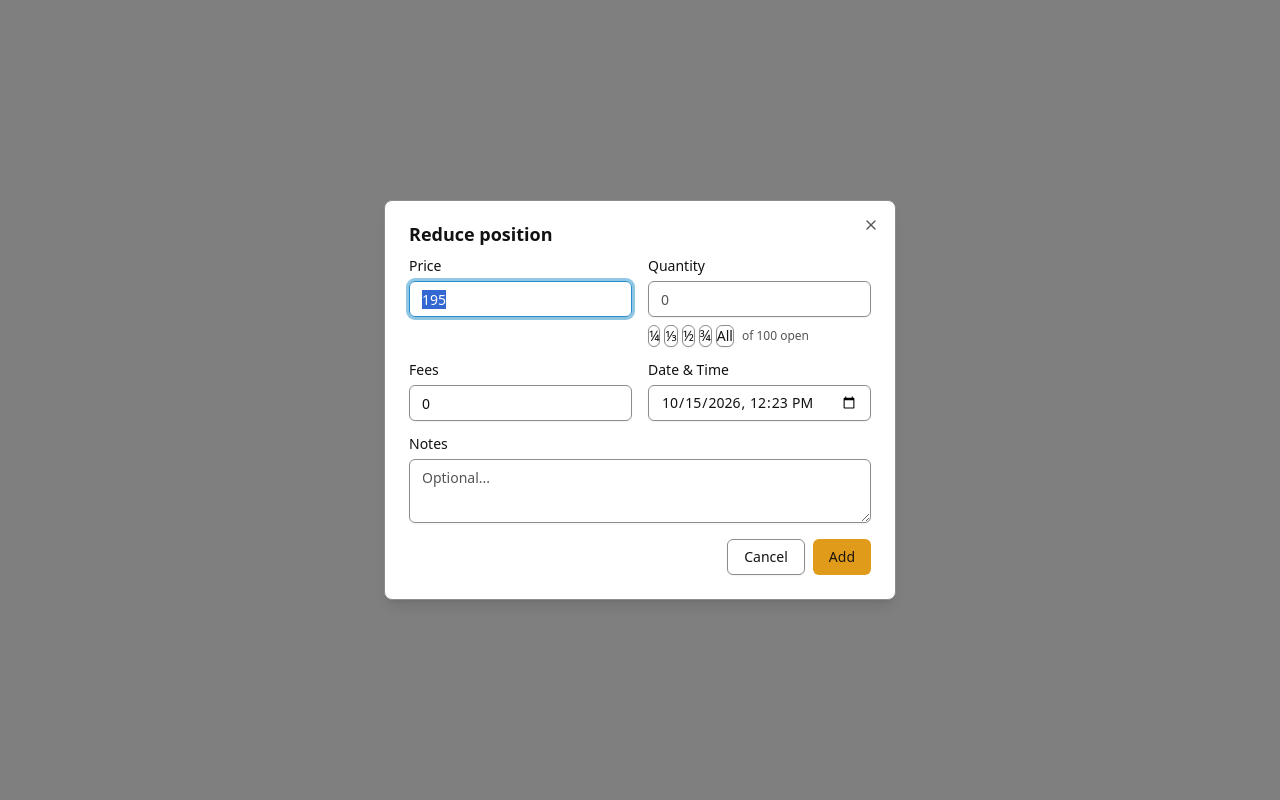
Test case: FillDialog — quantity presets › fills the exact open size for All
Click the button "All": point(725, 336) [716,325,734,347]
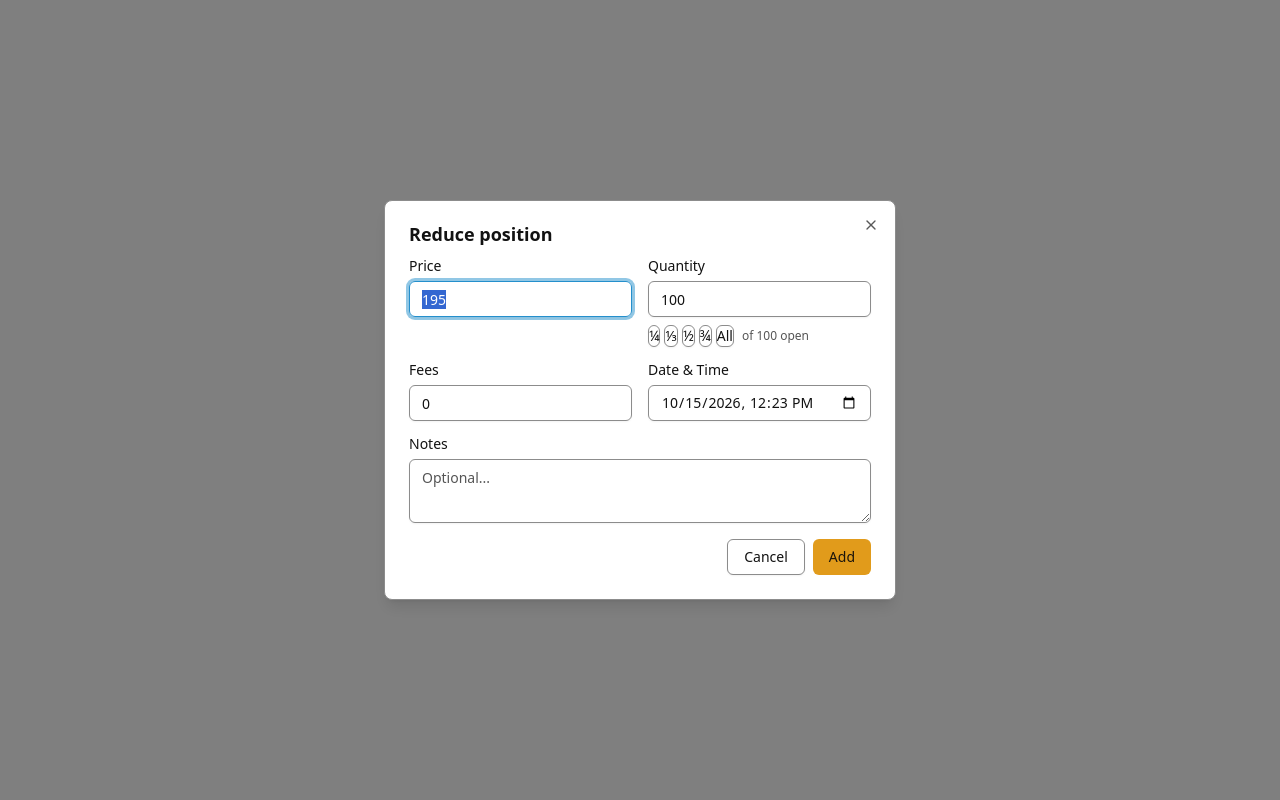
Expected: the field labelled "Quantity" holds "100", [648,281,871,317]
